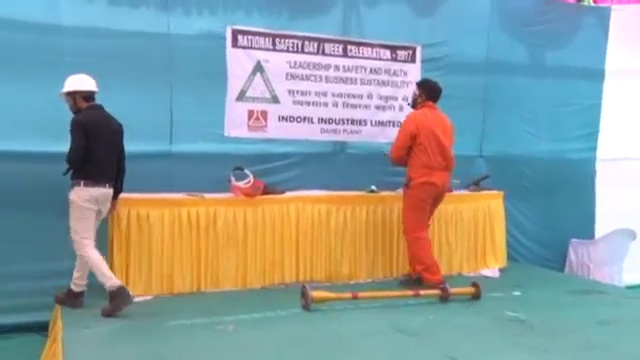helmet: (56, 71, 99, 96)
helmet_off: (411, 78, 442, 108)
helmet_on: (55, 69, 99, 116)
person: (53, 68, 134, 319), (396, 79, 454, 291)
